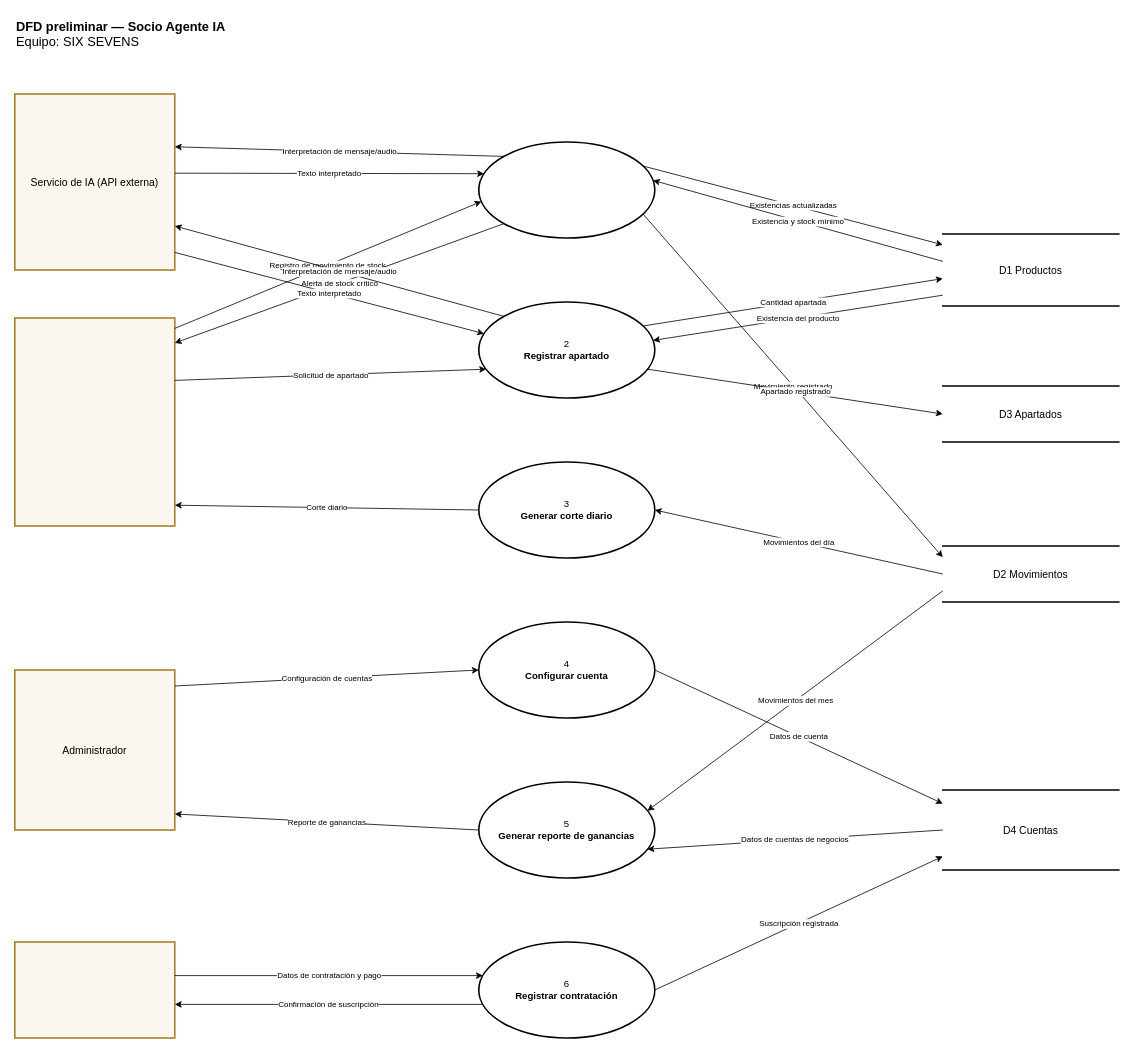
This 1133x1052 diagram has some shape labels left out. The shapes that lost their labels are listed below. From the top down, each one's centre as x and y in pixels, then its label:
At (x=566, y=189): "1 Registrar movimiento de stock".
At (x=94, y=421): "Usuario Final".
At (x=94, y=989): "Cliente".
